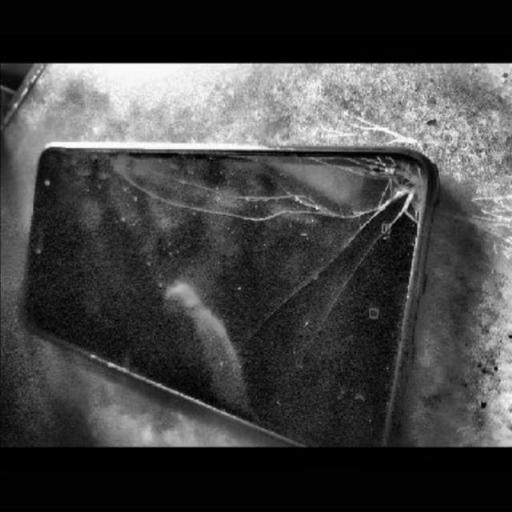phone: (12, 143, 429, 454)
